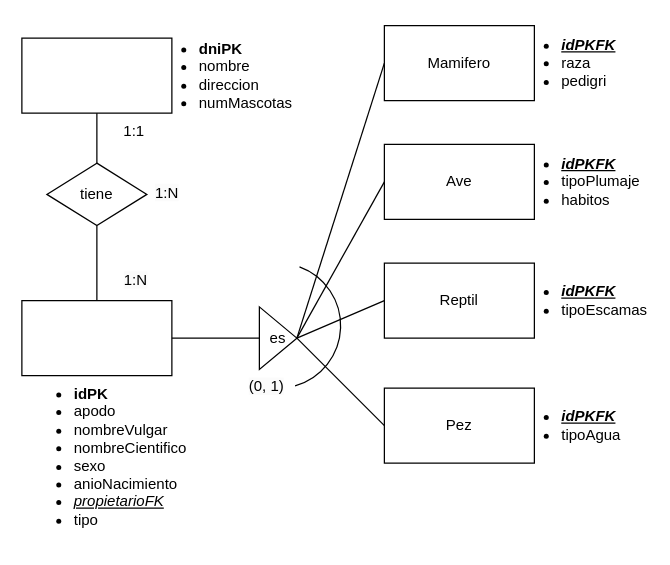
Image size: 670x565. Some labels were removed from this diagram. Each missing label, with the centre of its shape:
"Mascota" belongs at point (96, 337).
"Propietario" belongs at point (96, 75).
